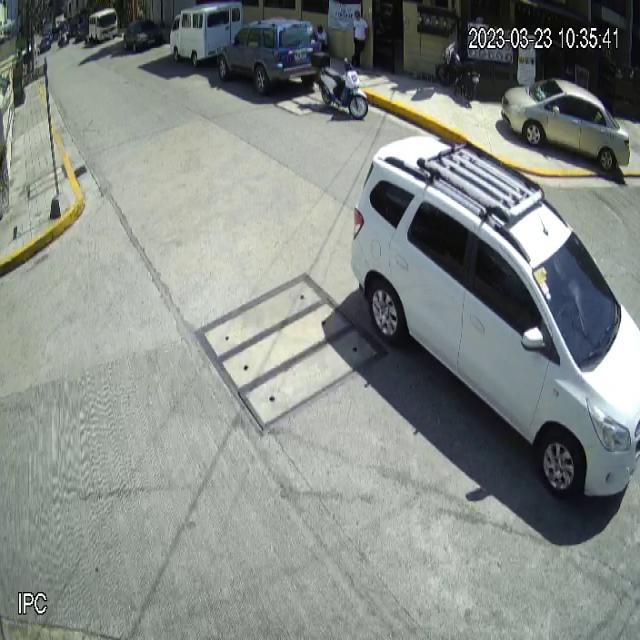Car: (349, 132, 640, 503), (500, 76, 631, 175), (216, 16, 321, 97)
Motorcycle: (310, 49, 370, 121)
Van: (169, 0, 244, 71)
